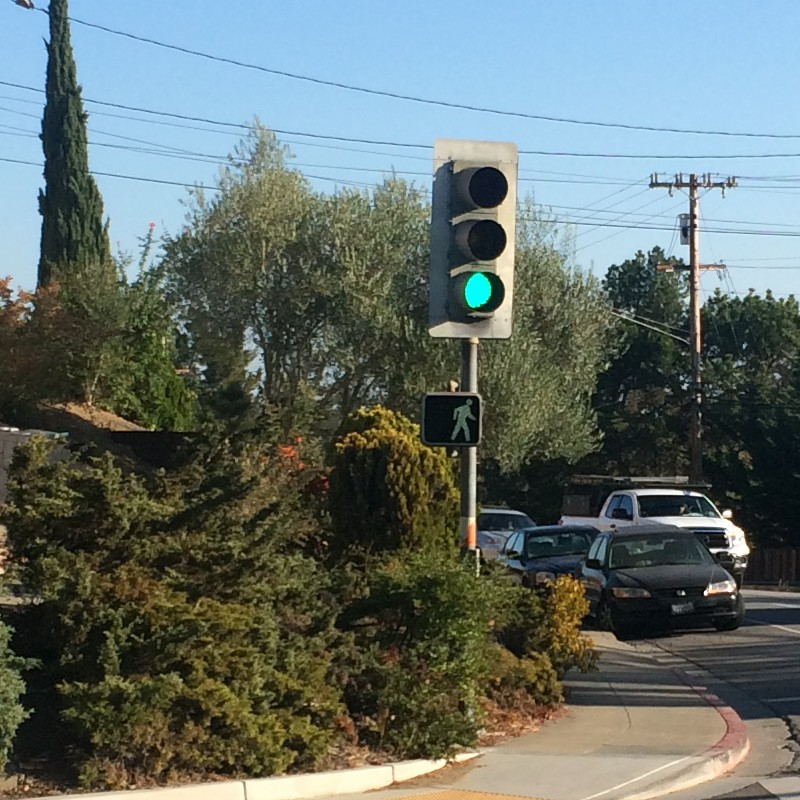go: (411, 392, 492, 453)
